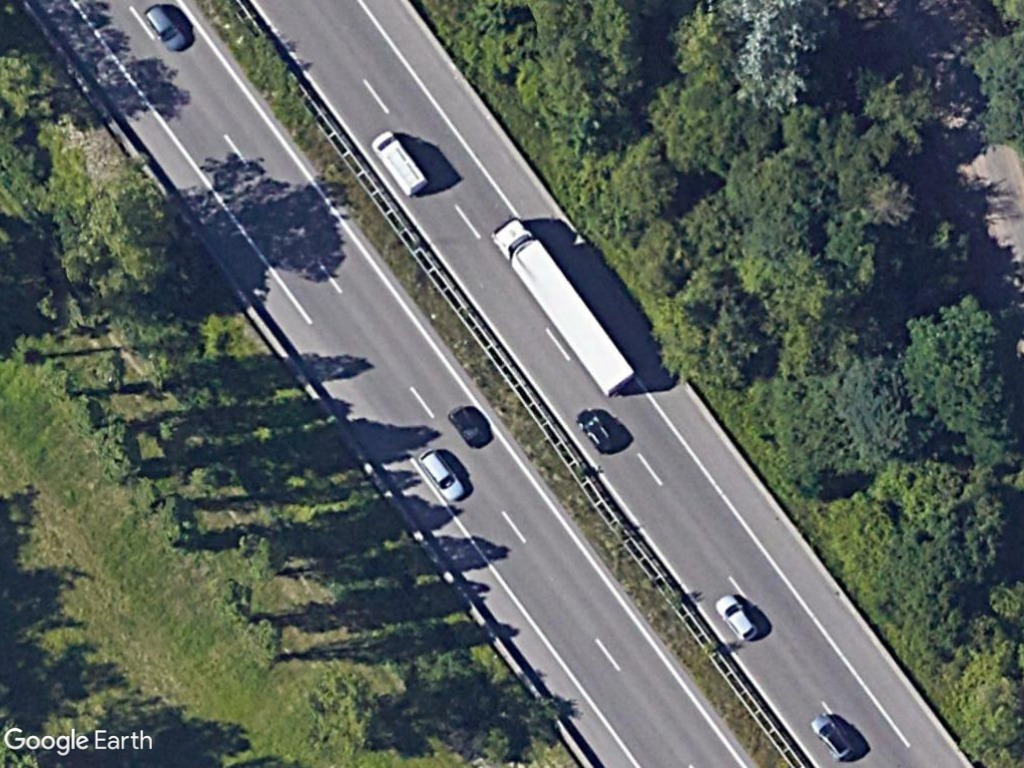car: (417, 445, 467, 504), (807, 713, 856, 765), (713, 592, 761, 645), (142, 5, 189, 53)
longvehicle: (487, 212, 639, 402)
van: (368, 127, 432, 199)
